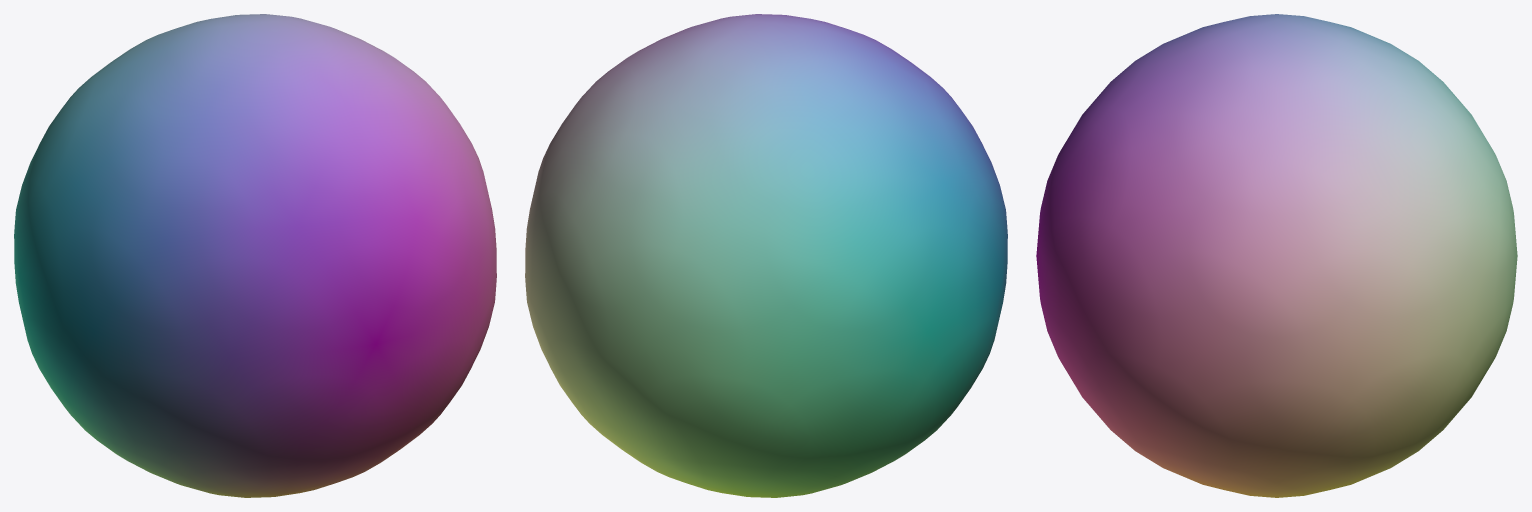
The model's file is scene_1920棱角球.fbx.
3 renders of one model, left to right at view 1: azimuth 30°, elevation 25°; view 2: azimuth 150°, elevation 25°; view 3: azimuth 270°, elevation 25°, orthographic.
Parts seen in each view (by area): view 1: 1920棱角球; view 2: 1920棱角球; view 3: 1920棱角球.
Part boxes in pixels (x1,y1,x2,y2): 1920棱角球: (14, 14, 496, 497); 1920棱角球: (525, 14, 1007, 497); 1920棱角球: (1036, 14, 1517, 497).
Size of the model in its own units: 1.82 by 1.83 by 1.81.
